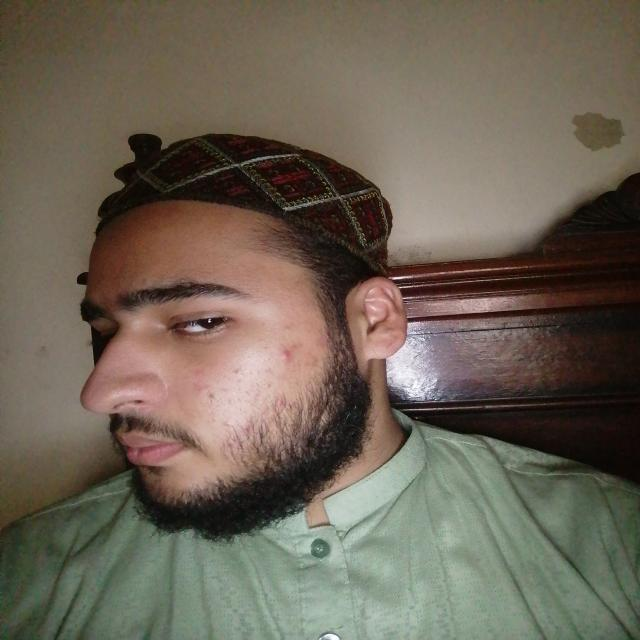Acne: (278, 344, 295, 362), (316, 328, 328, 350), (194, 384, 212, 393), (271, 398, 285, 409), (243, 421, 256, 432), (194, 366, 204, 375)
Blackheads: (220, 364, 253, 381)
